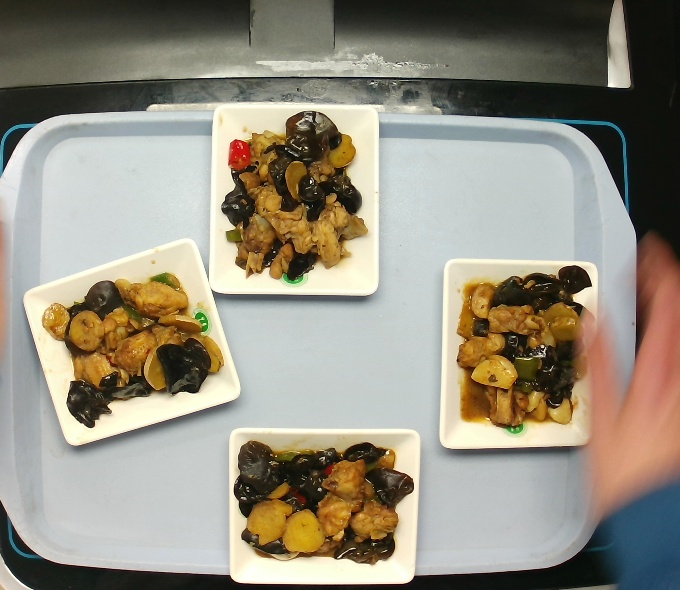wcq-MuErJiKuai: (210, 108, 376, 285), (43, 267, 217, 426), (449, 261, 591, 433), (242, 428, 404, 574)
